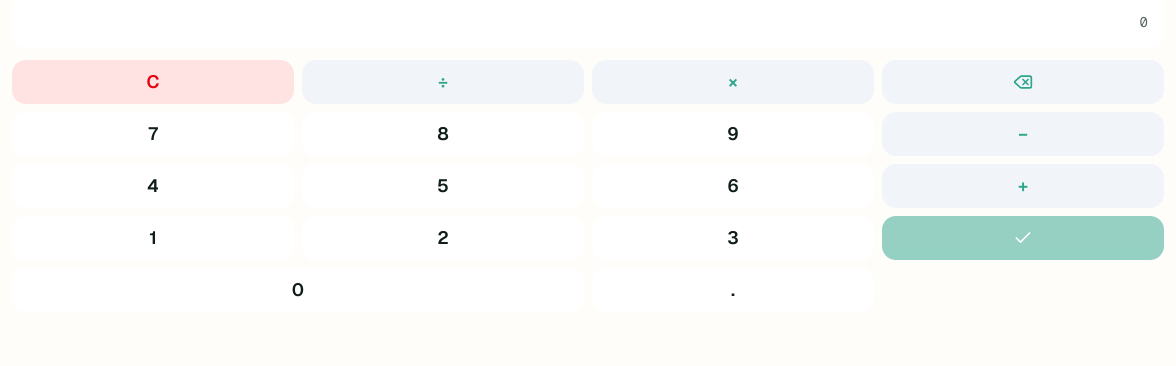
Scenario: Calculator Component › complex calculations › should handle multi-step calculations
This screenshot has width=1176, height=366.
Click the button "1".
click(153, 238)  # box [12,216,294,260]
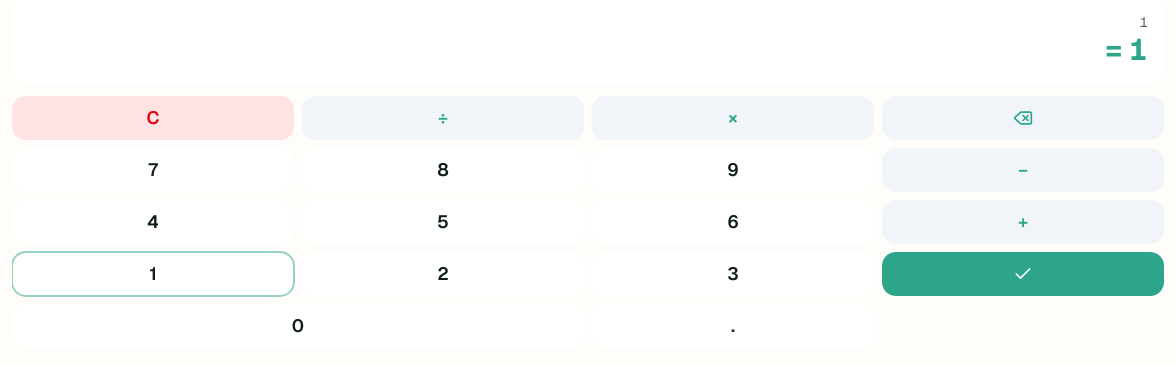
Click the button "0".
click(298, 326)  # box [12,304,584,348]
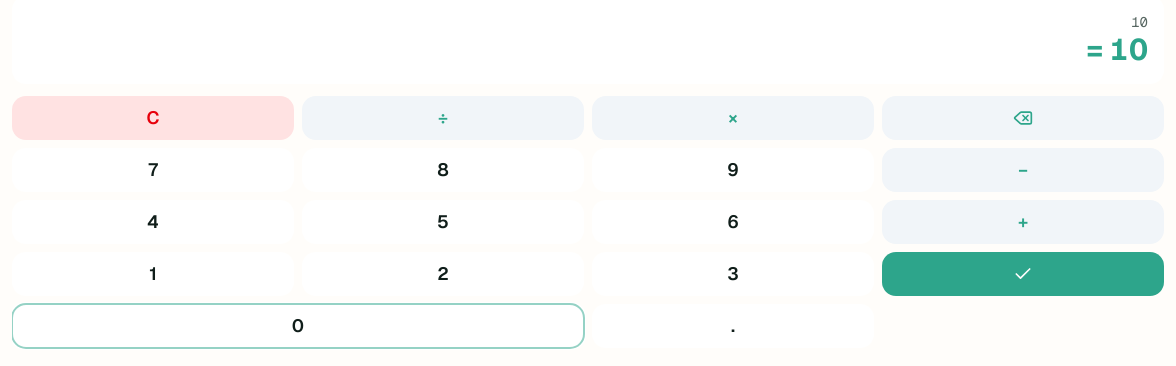
Click the button "+".
click(1023, 222)  # box [882,200,1164,244]
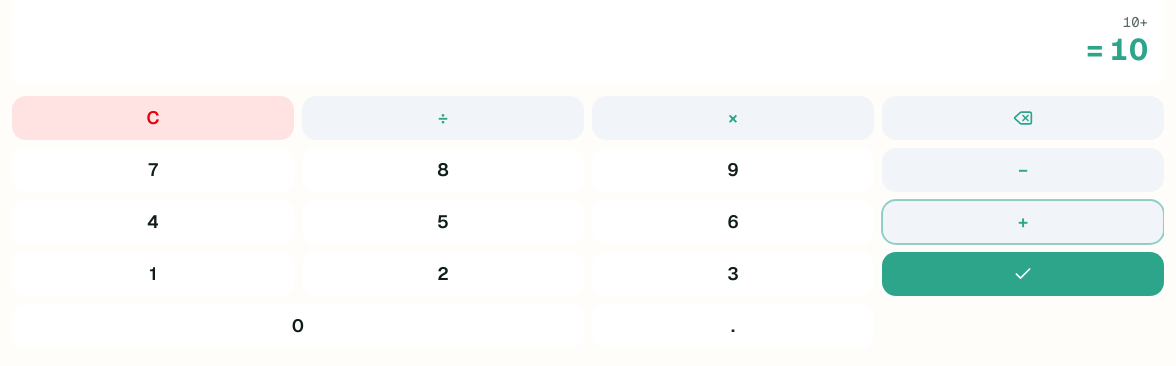
Click the button "5".
click(443, 222)  # box [302,200,584,244]
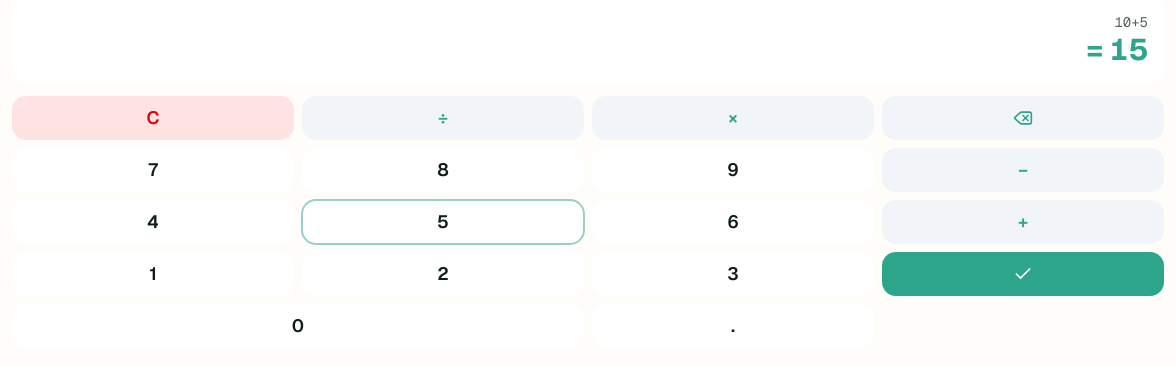
Click the button "×".
click(733, 118)  # box [592,96,874,140]
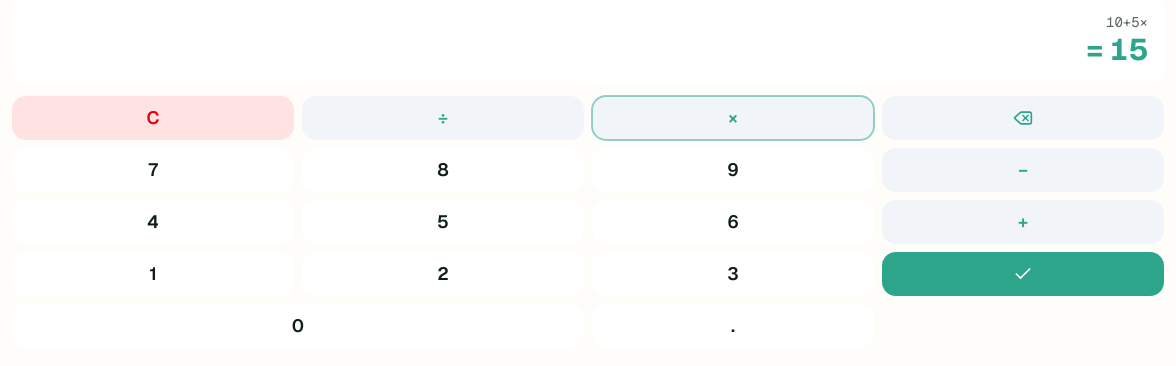
Click the button "2".
click(443, 274)  # box [302,252,584,296]
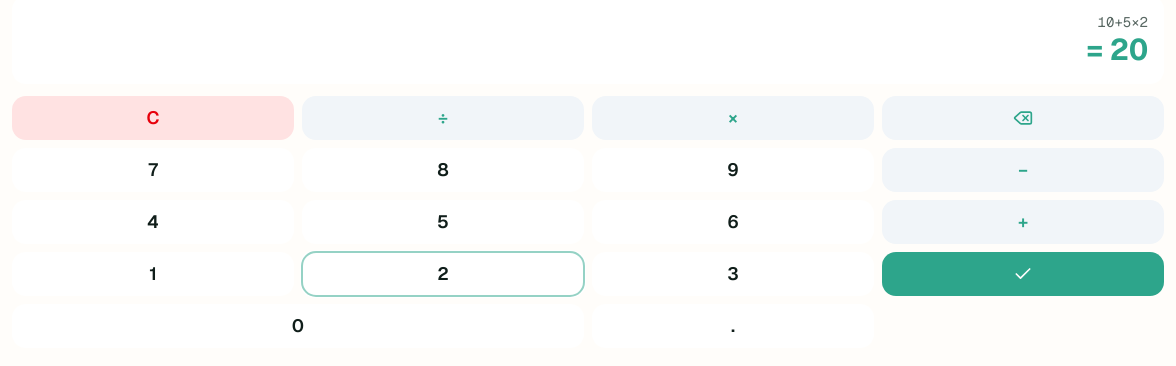
Expected: the text "= 20" is shown, [1086,30,1148,69]
